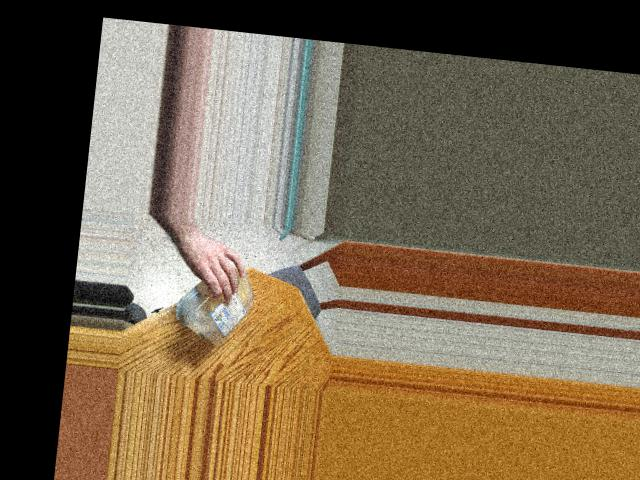cheese: (174, 248, 258, 347)
